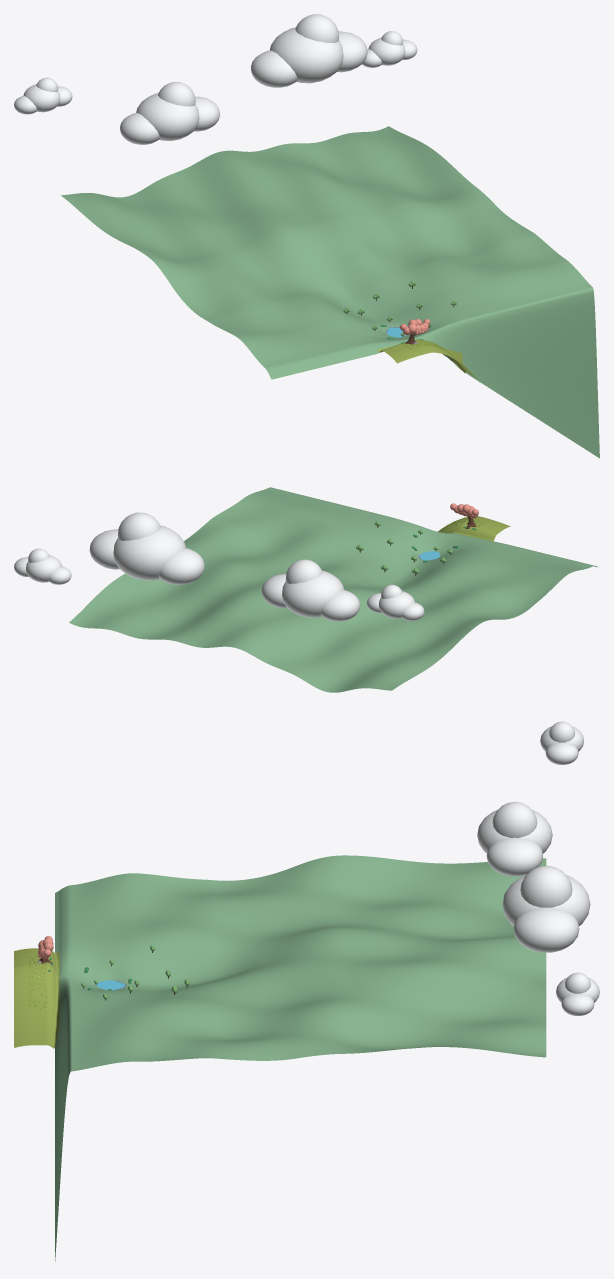
The model's file is world.glb.
The picture shows the model from 3 angles, top to bottom: view 1: azimuth 30°, elevation 25°; view 2: azimuth 150°, elevation 25°; view 3: azimuth 270°, elevation 25°; orthographic projection. The views are drawn at different scales.
Parts seen in each view (by area): view 1: Valley, Cloud1, Cloud0, Cloud3, Cloud2, Hill; view 2: Valley, Cloud1, Cloud0, Cloud3, Cloud2, Hill, Canopy; view 3: Valley, Cloud1, Hill, Cloud0, Cloud3, Cloud2.
Boxes of the visible parts, bbox=[...] form: Valley: bbox=[61, 126, 599, 458]; Cloud1: bbox=[250, 14, 367, 87]; Cloud0: bbox=[120, 82, 219, 144]; Cloud3: bbox=[14, 77, 72, 114]; Cloud2: bbox=[362, 31, 417, 67]; Hill: bbox=[378, 339, 479, 382]; Valley: bbox=[69, 487, 597, 692]; Cloud1: bbox=[89, 512, 204, 584]; Cloud0: bbox=[261, 559, 360, 621]; Cloud3: bbox=[367, 584, 424, 620]; Cloud2: bbox=[14, 548, 71, 584]; Hill: bbox=[438, 516, 510, 541]; Canopy: bbox=[450, 503, 478, 518]; Valley: bbox=[55, 855, 546, 1261]; Cloud1: bbox=[502, 865, 590, 952]; Hill: bbox=[14, 948, 59, 1048]; Cloud0: bbox=[477, 802, 552, 876]; Cloud3: bbox=[540, 721, 583, 764]; Cloud2: bbox=[556, 972, 599, 1015].
Bounding box in the file's own units: 173 × 124 × 186.
